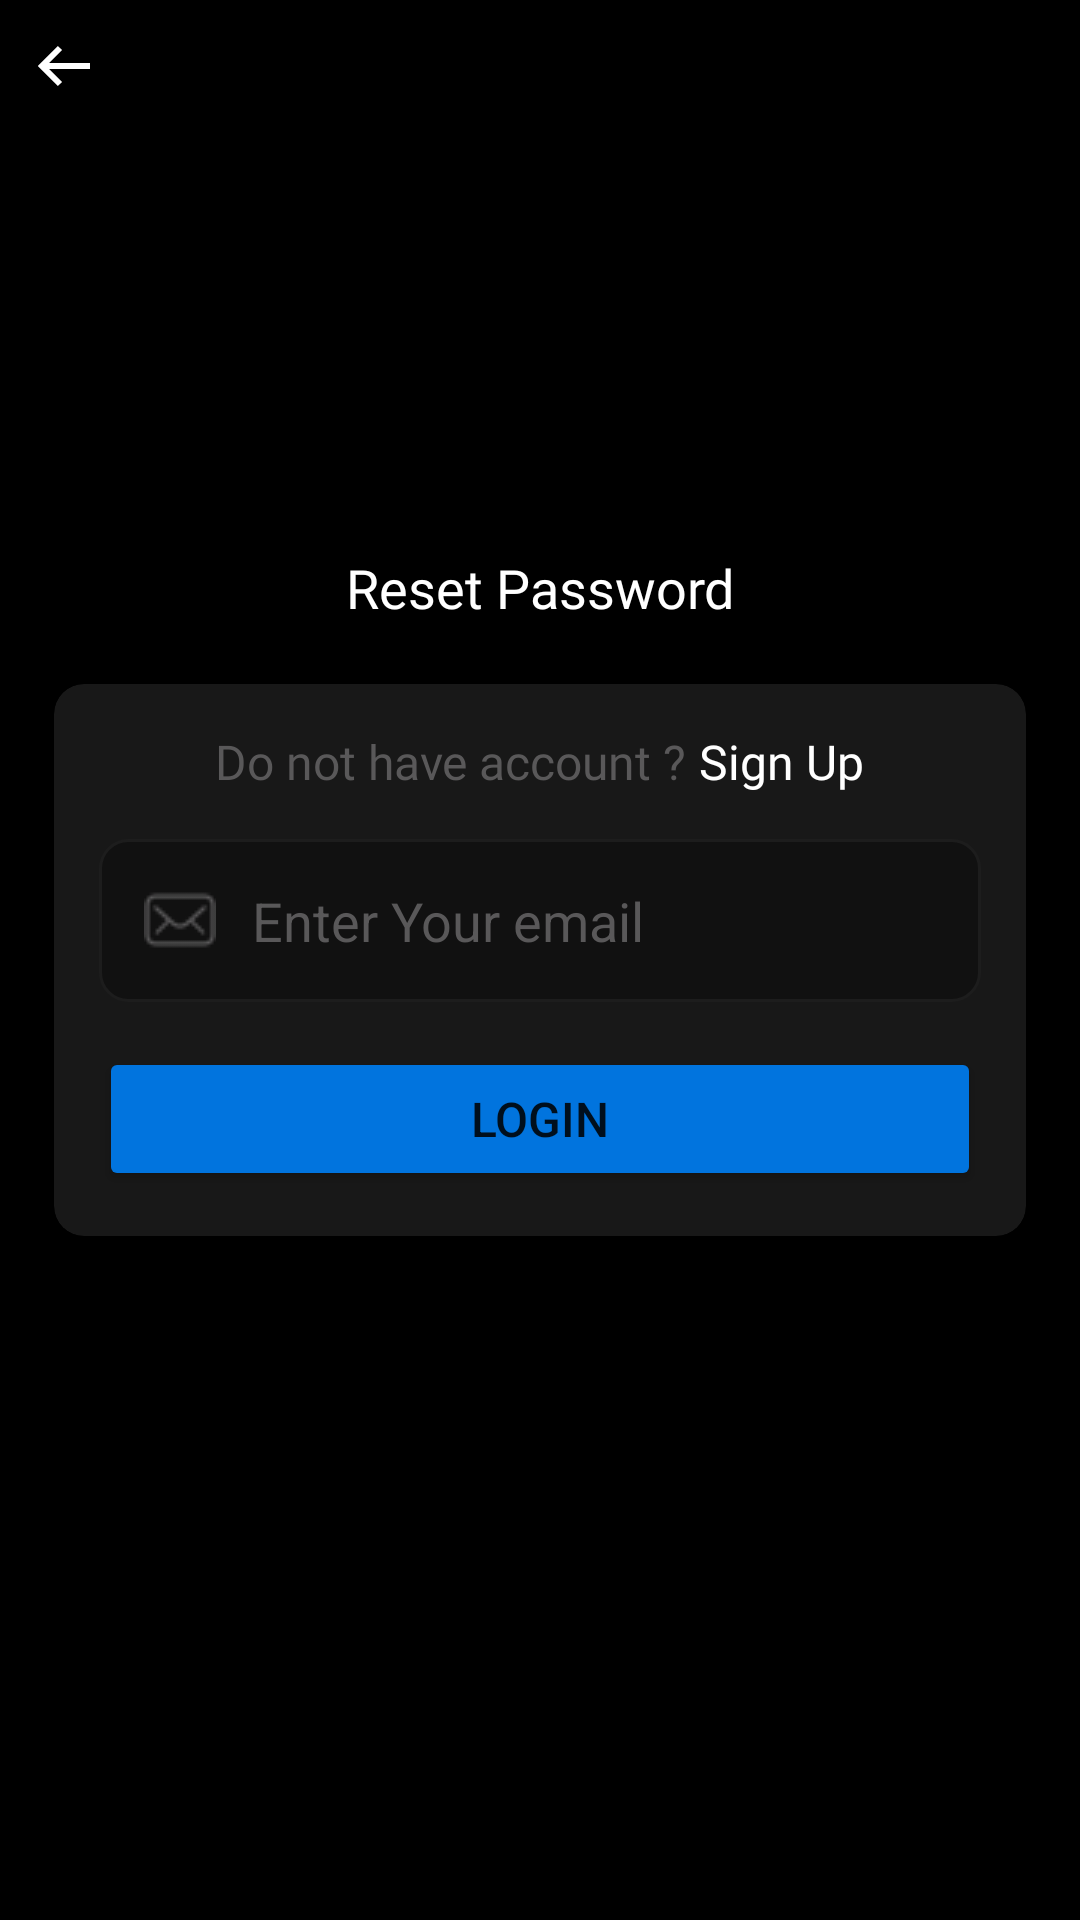

Icons on this 1080w x 1920h Android screen, each with its box as bbox(x1, y1, x2, y2):
back: bbox(38, 46, 90, 86)
